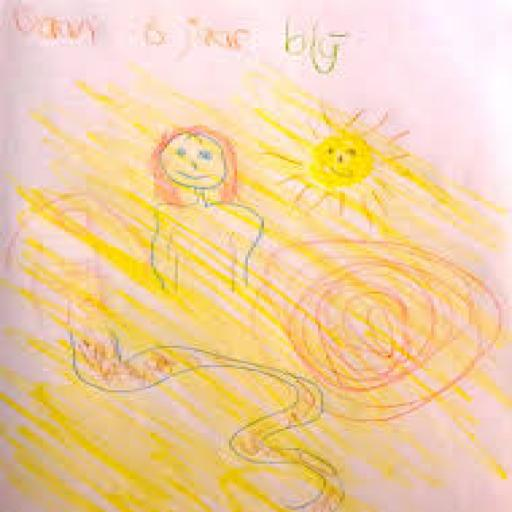person: (138, 126, 276, 304)
